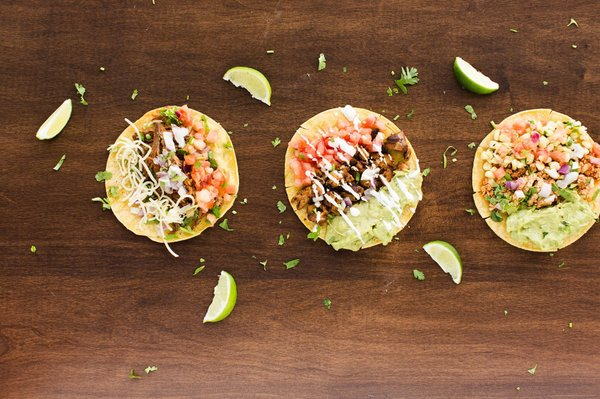steak: (203, 270, 238, 324)
